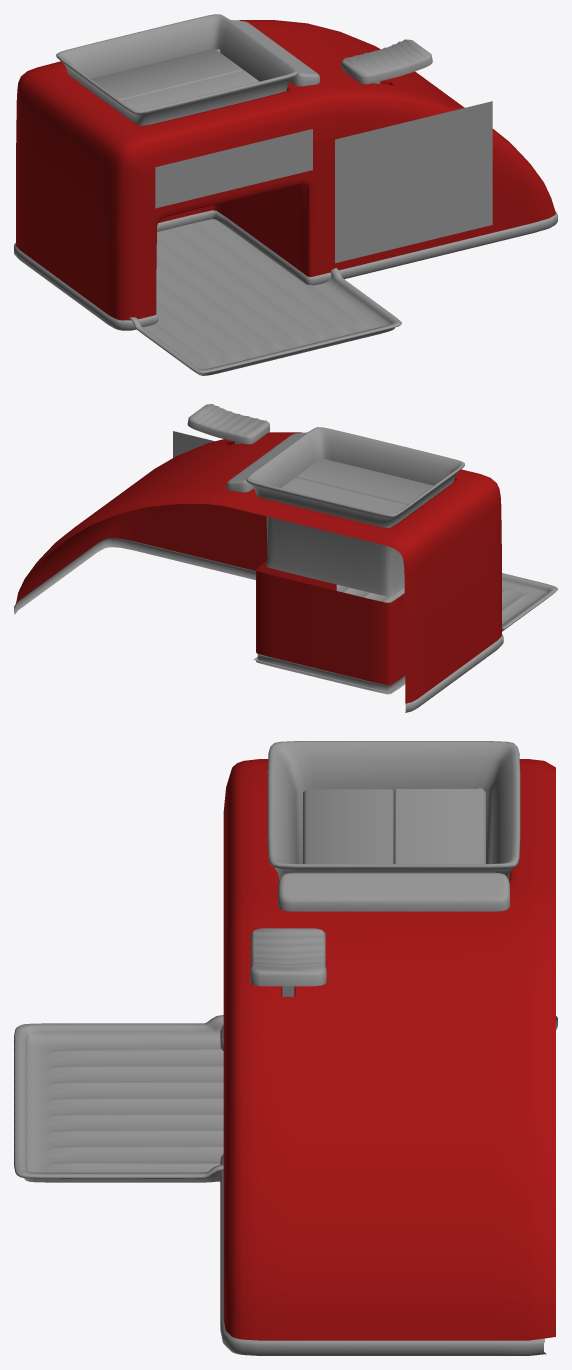
File: slicer.FBX
3 views of the same model, one above another, from view 1: azimuth 30°, elevation 25°; view 2: azimuth 150°, elevation 25°; view 3: azimuth 270°, elevation 25° (orthographic). The views are drawn at different scales.
Visible parts, largest first — view 1: slicer, slicer_logo, slicer_cap, slicer_trigger, slicer_cap2; view 2: slicer, slicer_cap2, slicer_trigger, slicer_cap, slicer_logo; view 3: slicer, slicer_cap, slicer_cap2, slicer_trigger.
Part boxes in pixels (<box>): slicer: <box>14,14,557,375</box>; slicer_logo: <box>155,101,492,263</box>; slicer_cap: <box>90,48,242,100</box>; slicer_trigger: <box>341,39,432,84</box>; slicer_cap2: <box>120,70,259,110</box>; slicer: <box>14,427,557,712</box>; slicer_cap2: <box>296,458,433,504</box>; slicer_trigger: <box>187,404,269,444</box>; slicer_cap: <box>281,477,406,513</box>; slicer_logo: <box>173,431,214,457</box>; slicer: <box>14,741,557,1355</box>; slicer_cap: <box>394,789,485,863</box>; slicer_cap2: <box>303,789,392,863</box>; slicer_trigger: <box>250,928,326,996</box>.
Bounding box in the file's own units: 84.89 × 36.83 × 58.91.
